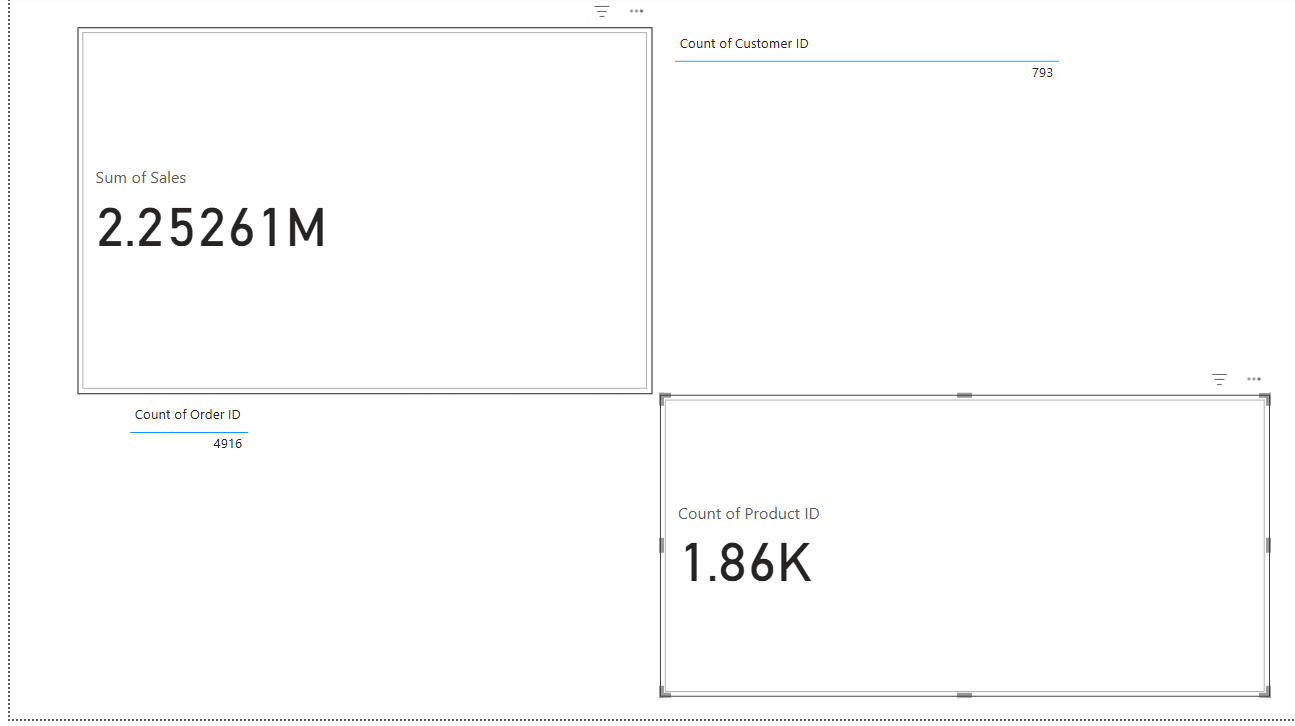

This screenshot's page, from the dashboard's own definition file:
{"tool":"powerbi","page":{"name":"Detailed_cards","canvas":[1280,720],"ordinal":0},"visuals":[{"type":"cardVisual","fields":{"Data":["Sum(clean_superstore_data.Sales)"]},"box":[67.2,31.1,572.2,365.7],"z":0},{"type":"cardVisual","fields":{"Data":["Count(clean_superstore_data.Product ID)"]},"box":[646.9,396.8,607.1,301],"z":1000},{"type":"tableEx","fields":{"Values":["clean_superstore_data.Customer ID"]},"box":[655.6,31.1,588.4,378.2],"z":2000},{"type":"tableEx","fields":{"Values":["clean_superstore_data.Order ID"]},"box":[113.2,400.6,542.4,311],"z":3000}]}

Visuals, with their boxes in screenshot pixels (x1, y1, x2, y2), scaled from the page's 1280x720 canvas onto the 1295x726 screenshot:
cardVisual - Sum(clean_superstore_data.Sales): (68,31,647,400)
cardVisual - Count(clean_superstore_data.Product ID): (654,400,1269,704)
tableEx - clean_superstore_data.Customer ID: (663,31,1259,413)
tableEx - clean_superstore_data.Order ID: (115,404,663,718)
